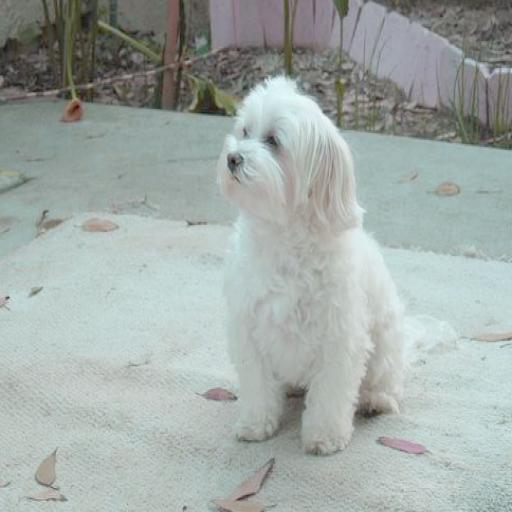dog_face: (212, 86, 350, 222)
